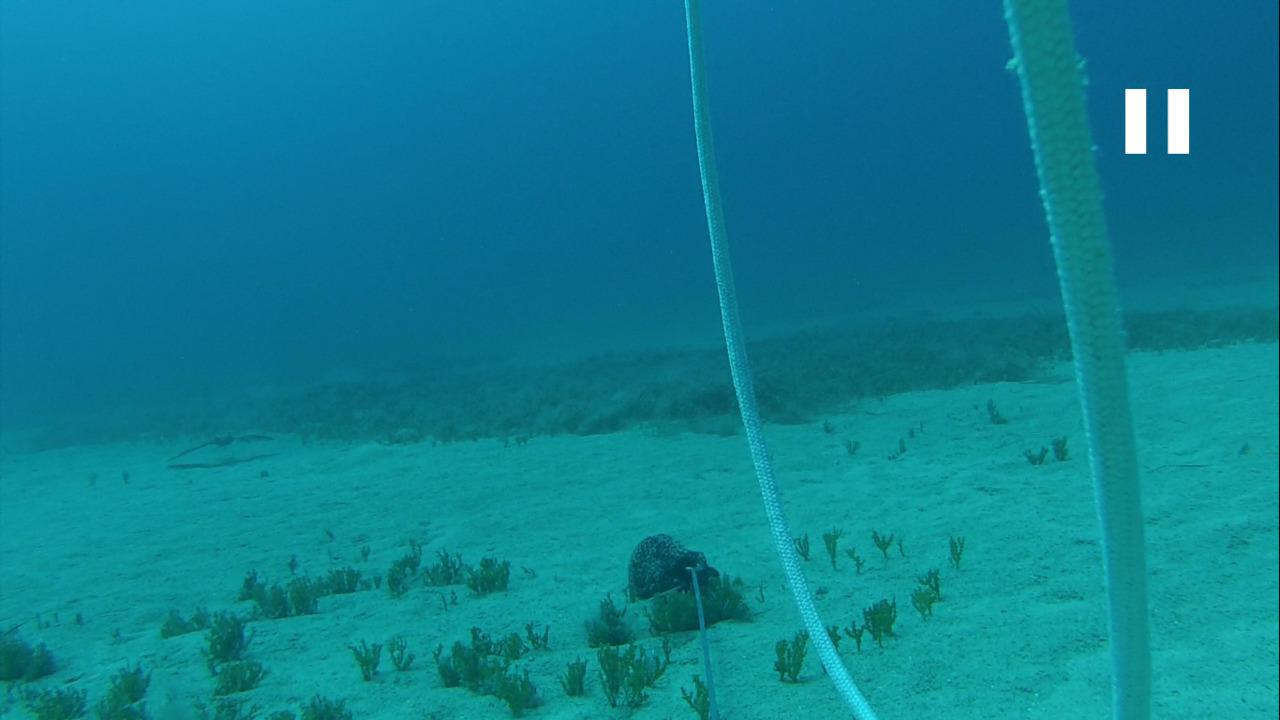dactylopterus: (165, 421, 275, 461)
